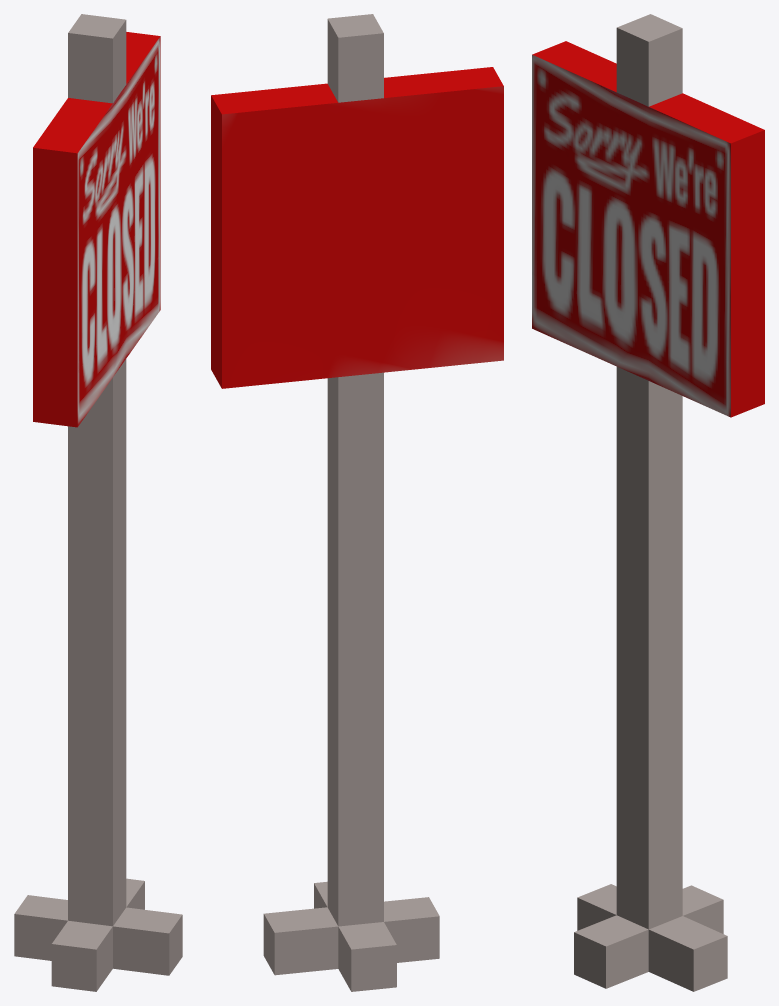
File: closedSign.fbx
The picture shows the model from 3 angles, left to right: view 1: azimuth 30°, elevation 25°; view 2: azimuth 150°, elevation 25°; view 3: azimuth 270°, elevation 25°; orthographic projection.
Visible parts, largest first — view 1: Cube.005; view 2: Cube.005; view 3: Cube.005.
Boxes of the visible parts, <box> form: Cube.005: <box>14,14,182,991</box>; Cube.005: <box>211,14,503,991</box>; Cube.005: <box>532,14,764,991</box>.
Size of the model in its own units: 0.7111 by 3.01 by 0.6825.
